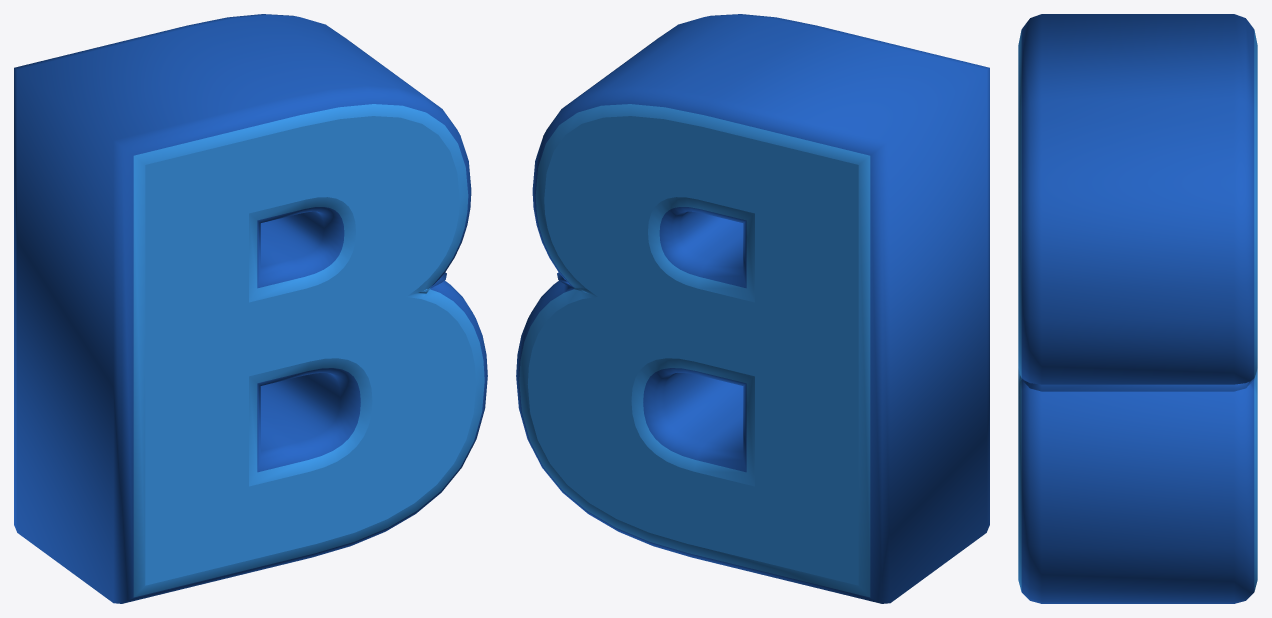
File: letter_B_blue.glb
The picture shows the model from 3 angles, left to right: view 1: azimuth 30°, elevation 25°; view 2: azimuth 150°, elevation 25°; view 3: azimuth 270°, elevation 25°; orthographic projection.
Parts seen in each view (by area): view 1: MOBP_letter_B_blue; view 2: MOBP_letter_B_blue; view 3: MOBP_letter_B_blue.
Part boxes in pixels (box(x1,y1,x2,y2)): MOBP_letter_B_blue: box(14, 14, 487, 603); MOBP_letter_B_blue: box(516, 14, 989, 603); MOBP_letter_B_blue: box(1018, 14, 1257, 603).
Bounding box in the file's own units: 0.0714 × 0.085 × 0.0398.
